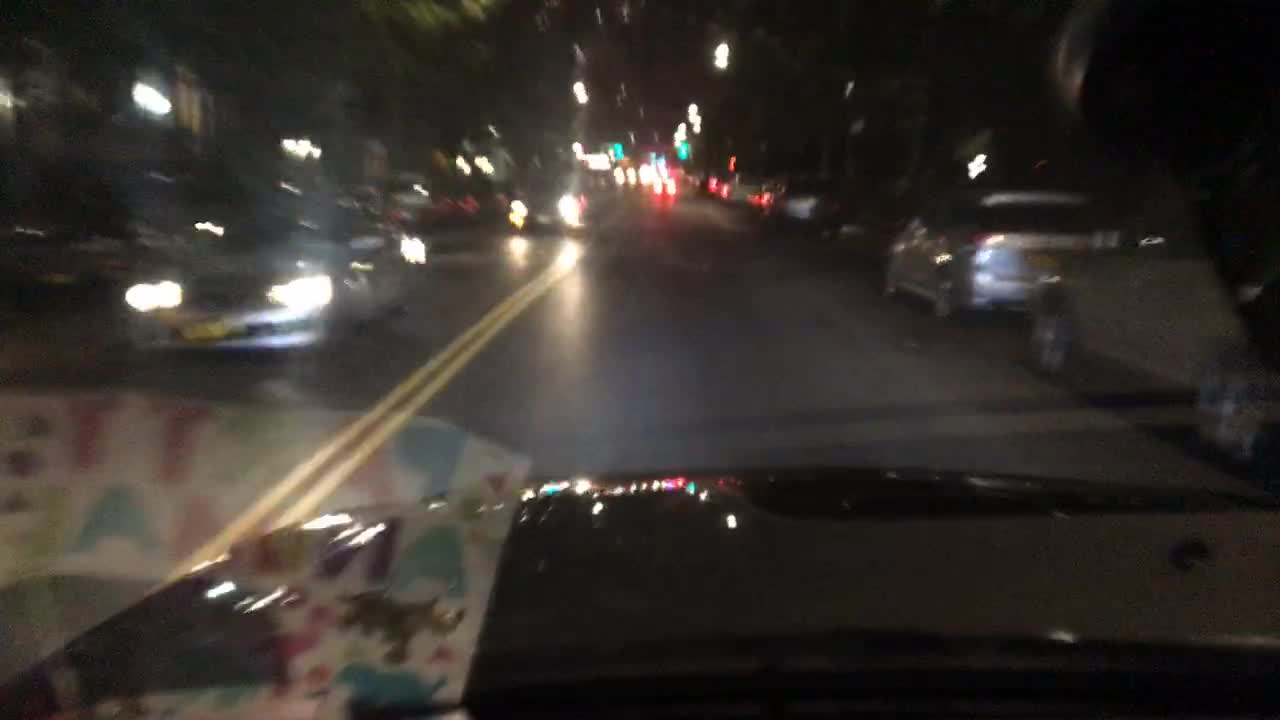car: (1025, 169, 1279, 467), (117, 180, 410, 370), (877, 179, 1117, 320), (807, 181, 907, 256), (376, 166, 453, 231), (507, 178, 585, 233), (768, 170, 837, 229), (446, 172, 506, 225), (718, 169, 766, 206), (751, 173, 783, 221), (584, 164, 618, 209), (697, 164, 724, 199), (651, 173, 676, 194), (615, 164, 638, 182), (636, 166, 655, 185)
traffic light: (724, 151, 738, 172), (673, 143, 687, 158), (611, 142, 621, 158)
